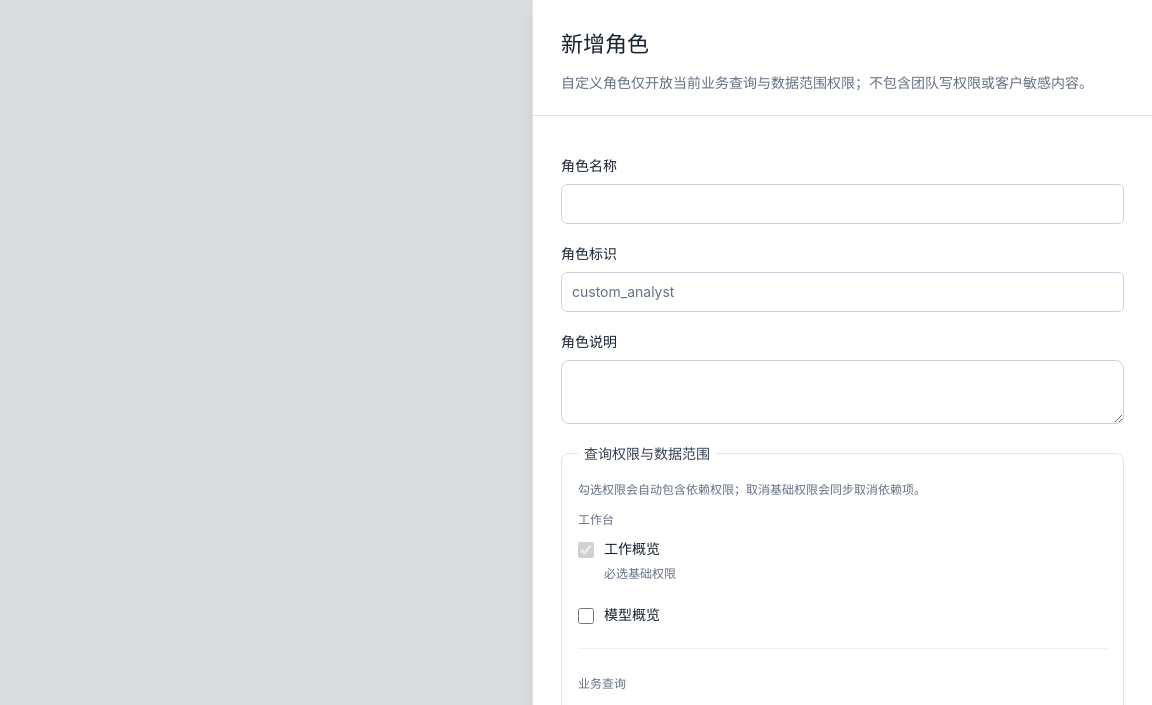
Test: preserves an editable create-role draft after a duplicate key conflict
Type "分析员" into the field labelled "角色名称" at (842, 204), box [561,184,1124,224]
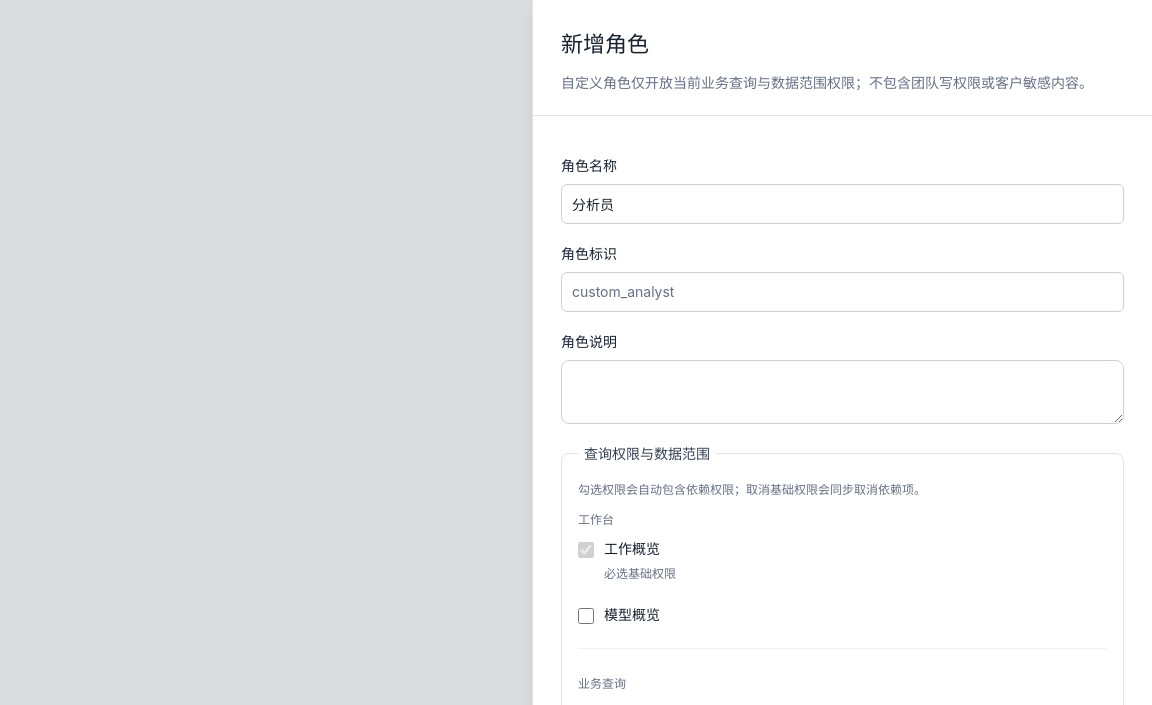
Type "custom_existing" into the field labelled "角色标识" at (842, 292), box [561,272,1124,312]
(page scrolled)
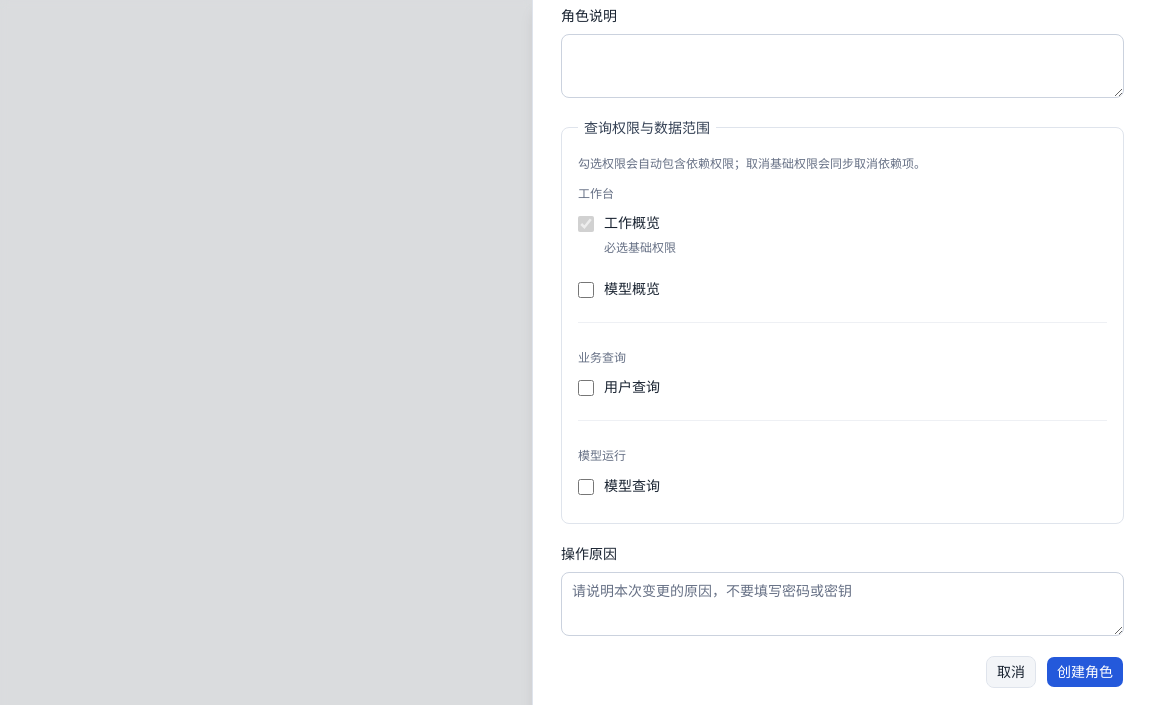
Type "按已审批的团队岗位调整" into the text box labelled "操作原因" at (842, 604), box [561,572,1124,636]
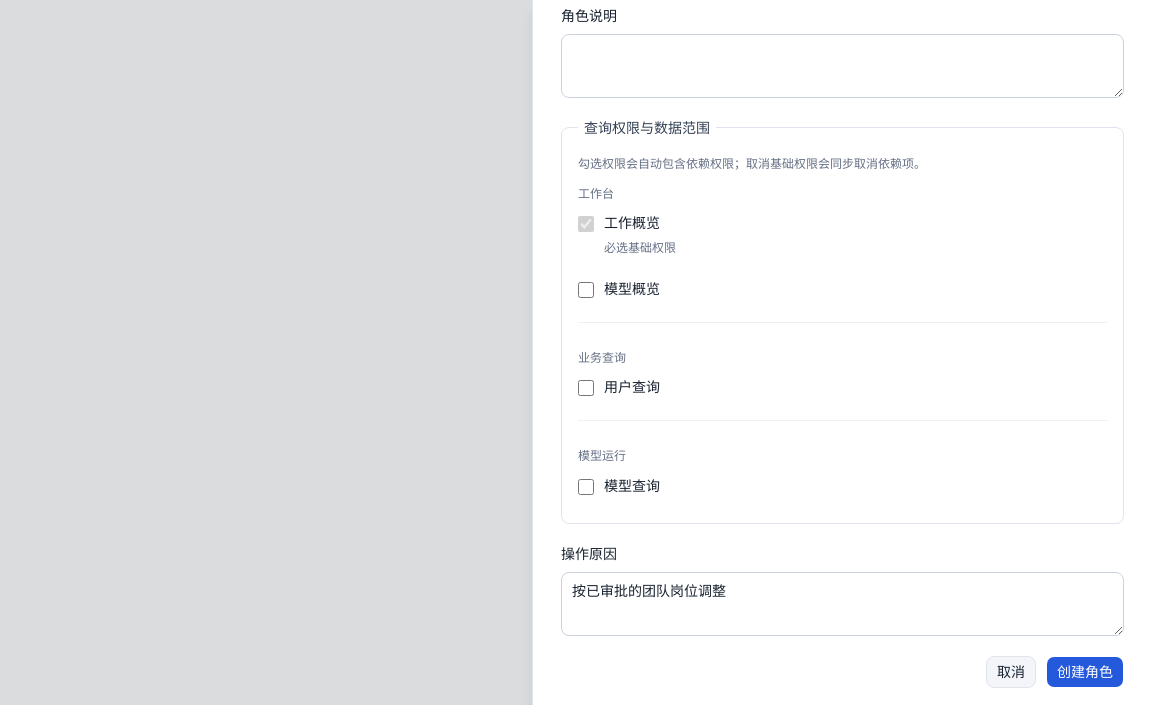
Click the button "创建角色" at (1085, 672), box [1046,656,1124,688]
(page scrolled)
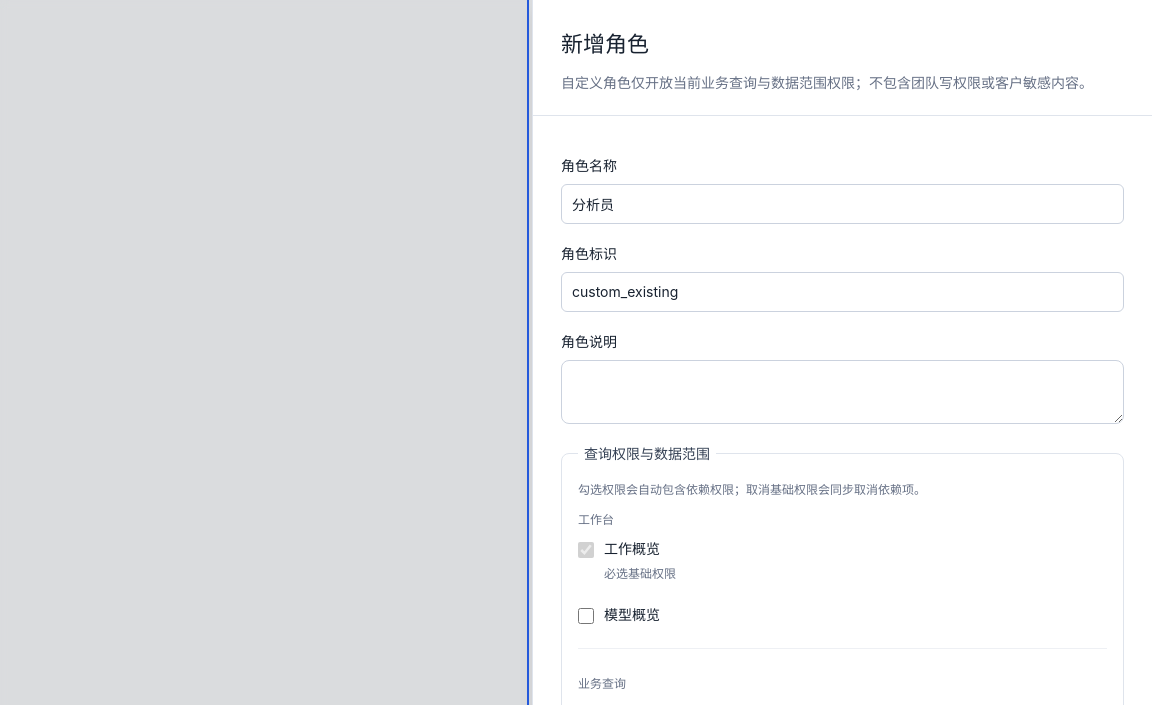
Now the field labelled "角色标识" is enabled, box [561,272,1124,312]
